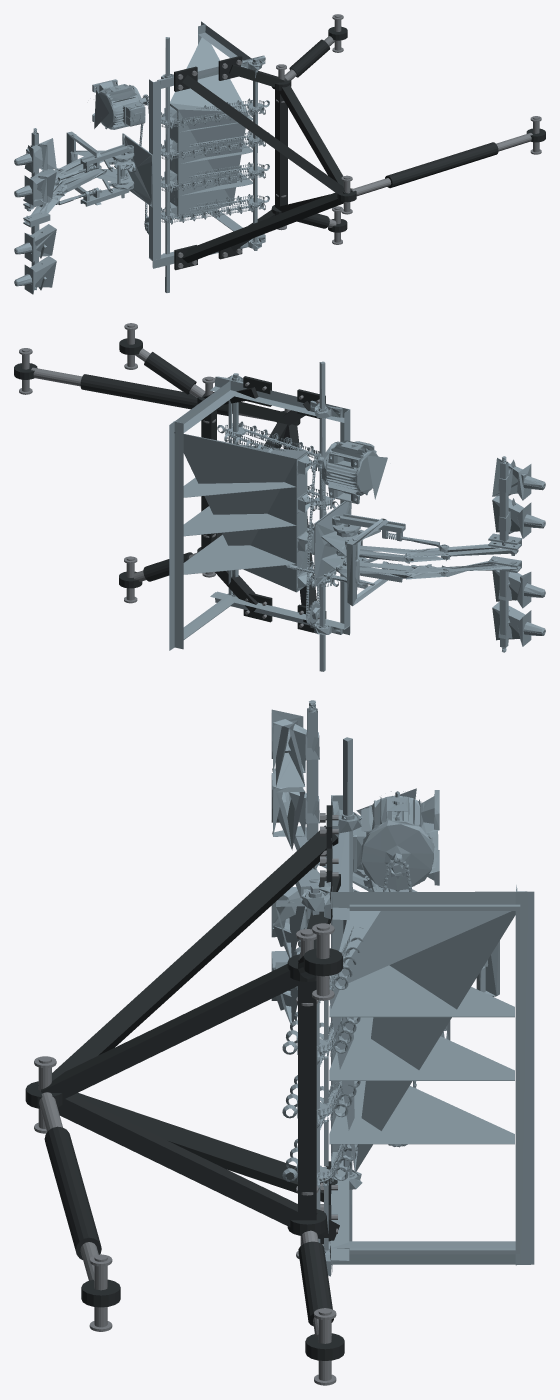
Rendered from implement_garlic_planter_visual.obj.
The picture shows the model from 3 angles, top to bottom: view 1: azimuth 30°, elevation 25°; view 2: azimuth 150°, elevation 25°; view 3: azimuth 270°, elevation 25°; orthographic projection. The views are drawn at different scales.
Visible parts, largest first — view 1: solid_292, hitch_receiver_member_6, solid_865, hitch_receiver_member_5, hitch_top_link_sleeve, hitch_receiver_member_1, solid_98, hitch_receiver_member_0, solid_8, solid_2545, hitch_top_link_rod, solid_2544 (+13 smaller); view 2: solid_292, solid_869, solid_98, solid_299, hitch_top_link_sleeve, solid_848, solid_8, solid_2545, solid_866, solid_849, solid_27, solid_864 (+20 smaller); view 3: solid_292, hitch_receiver_member_5, hitch_receiver_member_1, hitch_receiver_member_2, solid_299, solid_869, solid_848, solid_849, solid_293, hitch_receiver_member_0, hitch_receiver_member_6, solid_97 (+18 smaller).
Part boxes in pixels (x1,y1,x2,y2): solid_292: (170, 37, 247, 219); hitch_receiver_member_6: (182, 192, 343, 262); solid_865: (149, 79, 160, 260); hitch_receiver_member_5: (182, 75, 347, 193); hitch_top_link_sleeve: (385, 142, 498, 188); hitch_receiver_member_1: (279, 79, 351, 193); solid_98: (92, 79, 139, 129); hitch_receiver_member_0: (275, 89, 287, 210); solid_8: (122, 133, 152, 207); solid_2545: (165, 37, 169, 292); hitch_top_link_rod: (351, 133, 532, 196); solid_2544: (253, 58, 257, 250); solid_292: (174, 432, 307, 592); solid_869: (169, 421, 183, 650); solid_98: (324, 440, 378, 504); solid_299: (183, 534, 295, 574); hitch_top_link_sleeve: (80, 374, 228, 415); solid_848: (183, 506, 296, 536); solid_8: (314, 501, 351, 587); solid_2545: (319, 361, 325, 671); solid_866: (210, 377, 344, 422); solid_849: (183, 477, 295, 497); solid_27: (346, 518, 388, 606); solid_864: (210, 592, 350, 635); solid_292: (329, 911, 515, 1173); hitch_receiver_member_5: (38, 825, 338, 1085); hitch_receiver_member_1: (41, 964, 303, 1099); hitch_receiver_member_2: (57, 1095, 311, 1226); solid_299: (329, 1081, 514, 1144); solid_869: (515, 885, 534, 1265); solid_848: (329, 1017, 514, 1080); solid_849: (329, 965, 514, 1017); solid_293: (349, 904, 520, 1254); hitch_receiver_member_0: (298, 981, 316, 1220); hitch_receiver_member_6: (74, 1093, 337, 1202); solid_97: (360, 820, 434, 890).
Size of the model in its own units: 2.39 by 1.2 by 1.09.
